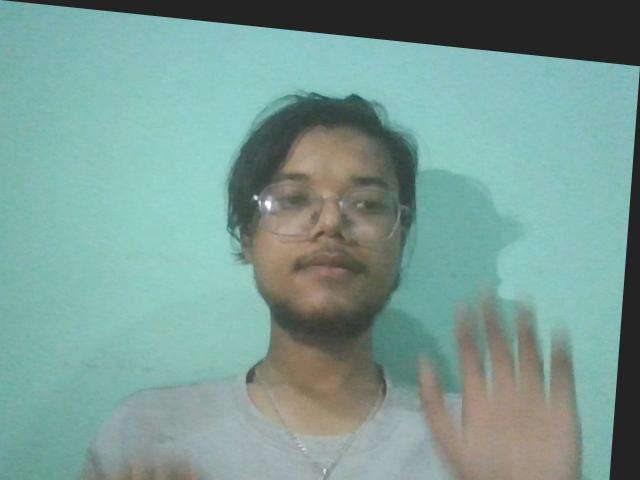hello: (396, 267, 610, 480)
